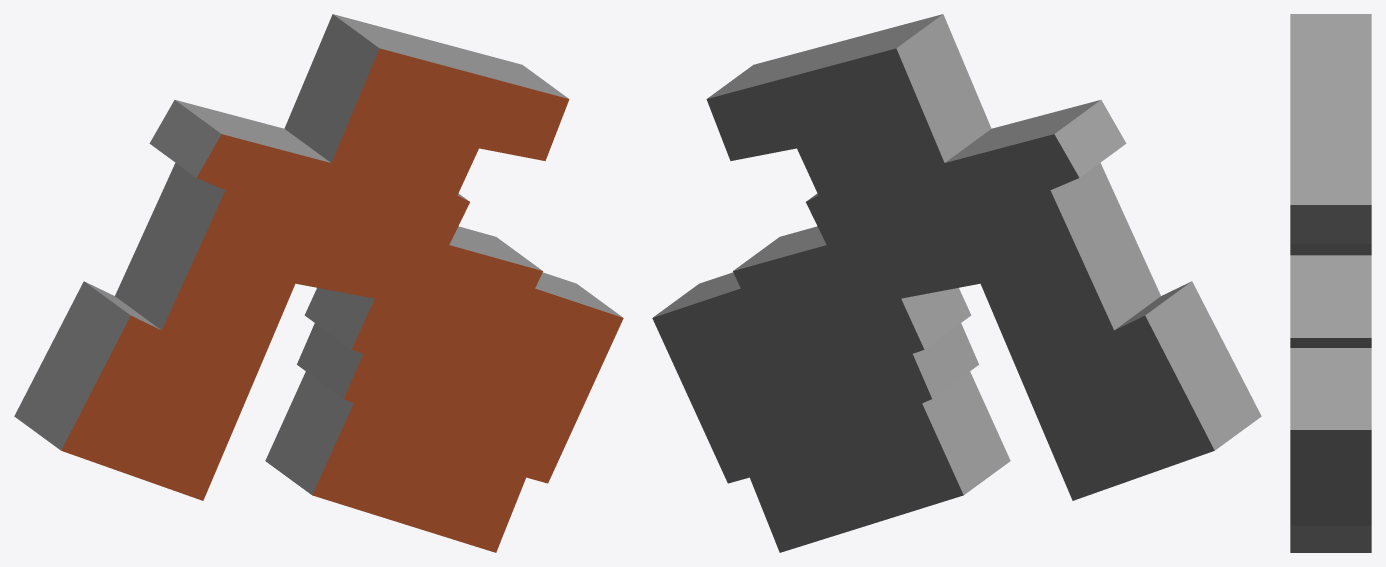
The model's file is construction_1882_assumed_A_Casa_h6m.obj.
3 views of the same model, side by side, from view 1: azimuth 30°, elevation 25°; view 2: azimuth 150°, elevation 25°; view 3: azimuth 270°, elevation 25° (orthographic). The views are drawn at different scales.
Visible parts, largest first — view 1: construction_1882_assumed_A_Casa; view 2: construction_1882_assumed_A_Casa; view 3: construction_1882_assumed_A_Casa.
Part boxes in pixels (left/top/right/bottom): construction_1882_assumed_A_Casa: left=14, top=14, right=623, bottom=552; construction_1882_assumed_A_Casa: left=652, top=14, right=1261, bottom=552; construction_1882_assumed_A_Casa: left=1290, top=14, right=1371, bottom=552.
Size of the model in its own units: 41.5 by 37.58 by 6.
